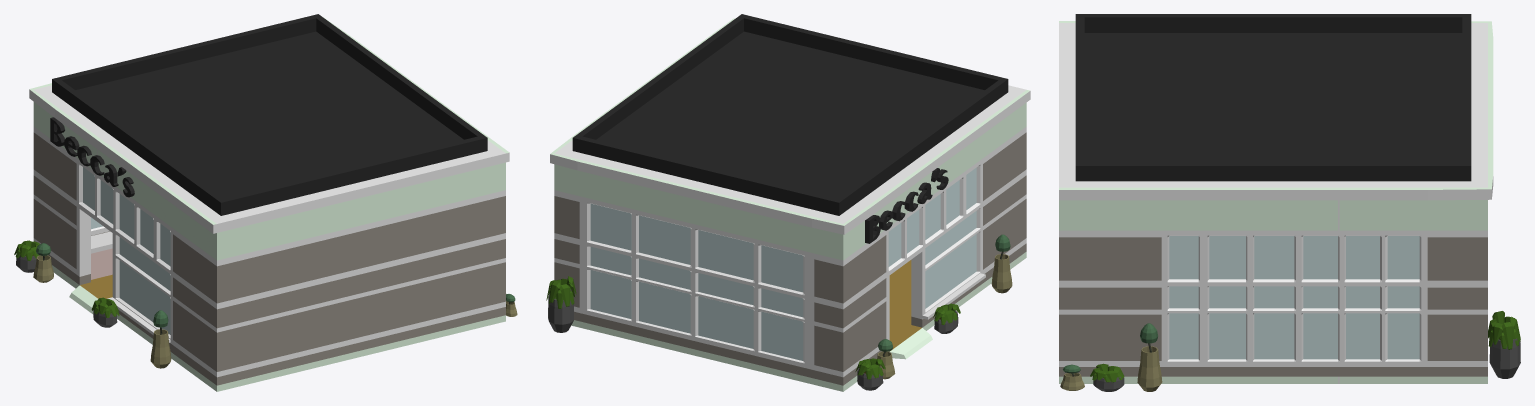
The model's file is BeccaBuildingV2.fbx.
3 views of the same model, side by side, from view 1: azimuth 30°, elevation 25°; view 2: azimuth 150°, elevation 25°; view 3: azimuth 270°, elevation 25° (orthographic). The views are drawn at different scales.
Parts seen in each view (by area): view 1: Becca Building; view 2: Becca Building; view 3: Becca Building.
Part boxes in pixels (x1,y1,x2,y2): Becca Building: [14, 14, 517, 391]; Becca Building: [546, 14, 1030, 391]; Becca Building: [1059, 14, 1520, 391].
Bounding box in the file's own units: 2087 × 2049 × 1056.
